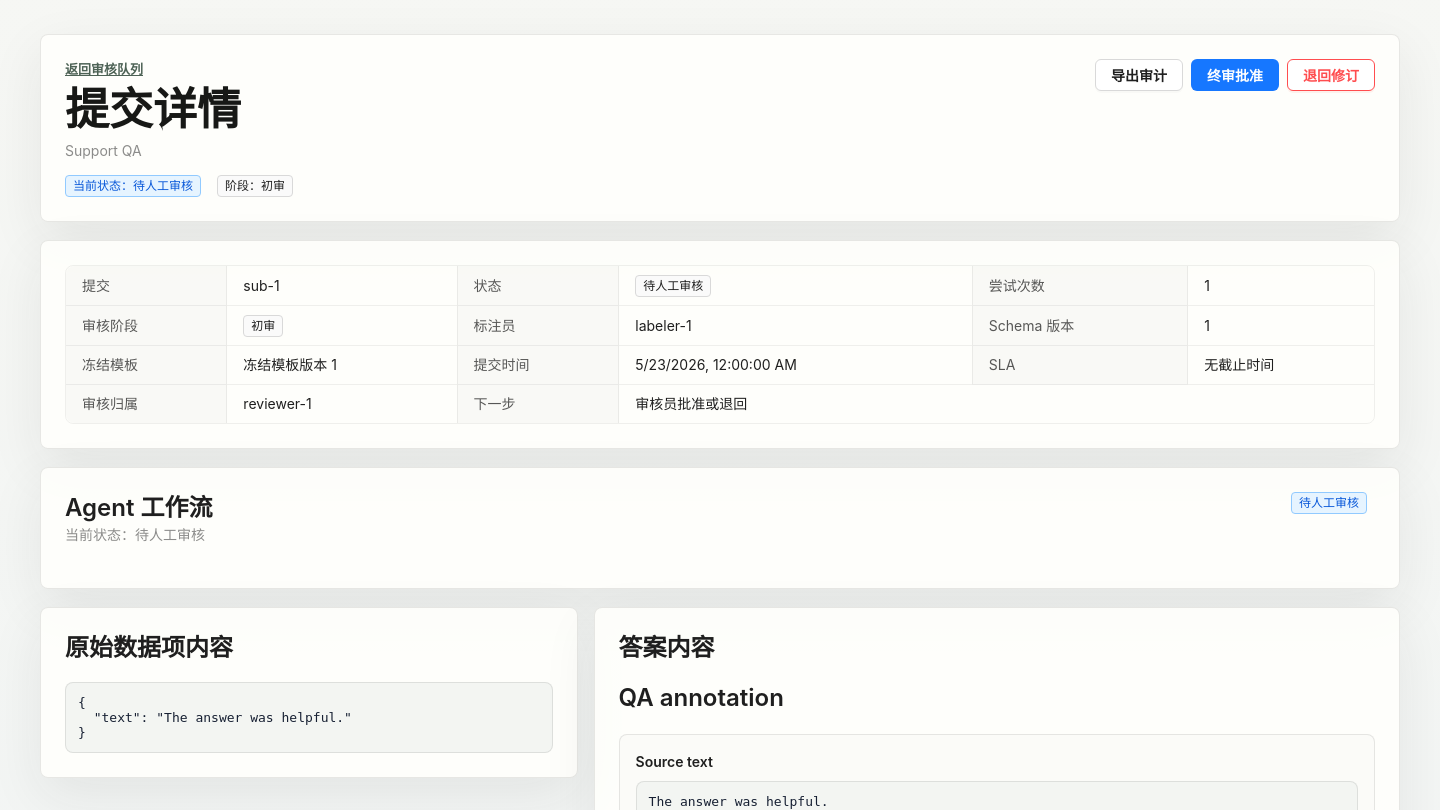
reviewer workspace › blocks return actions until a reason is provided
Click the button "退回修订" at point(1331, 75), box [1287,59,1375,91]
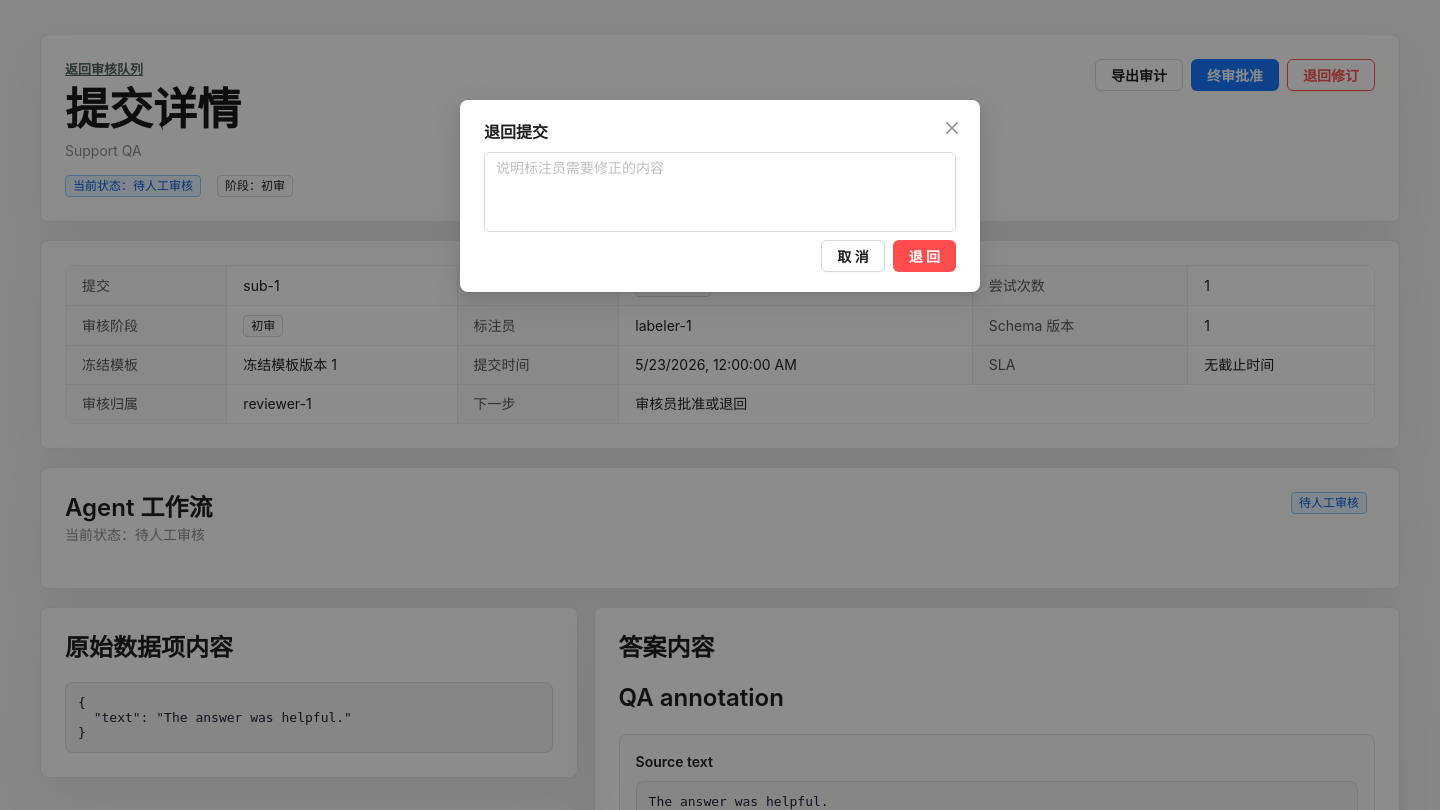
Click the button "退 回" at point(924, 256), box [893,240,956,272]
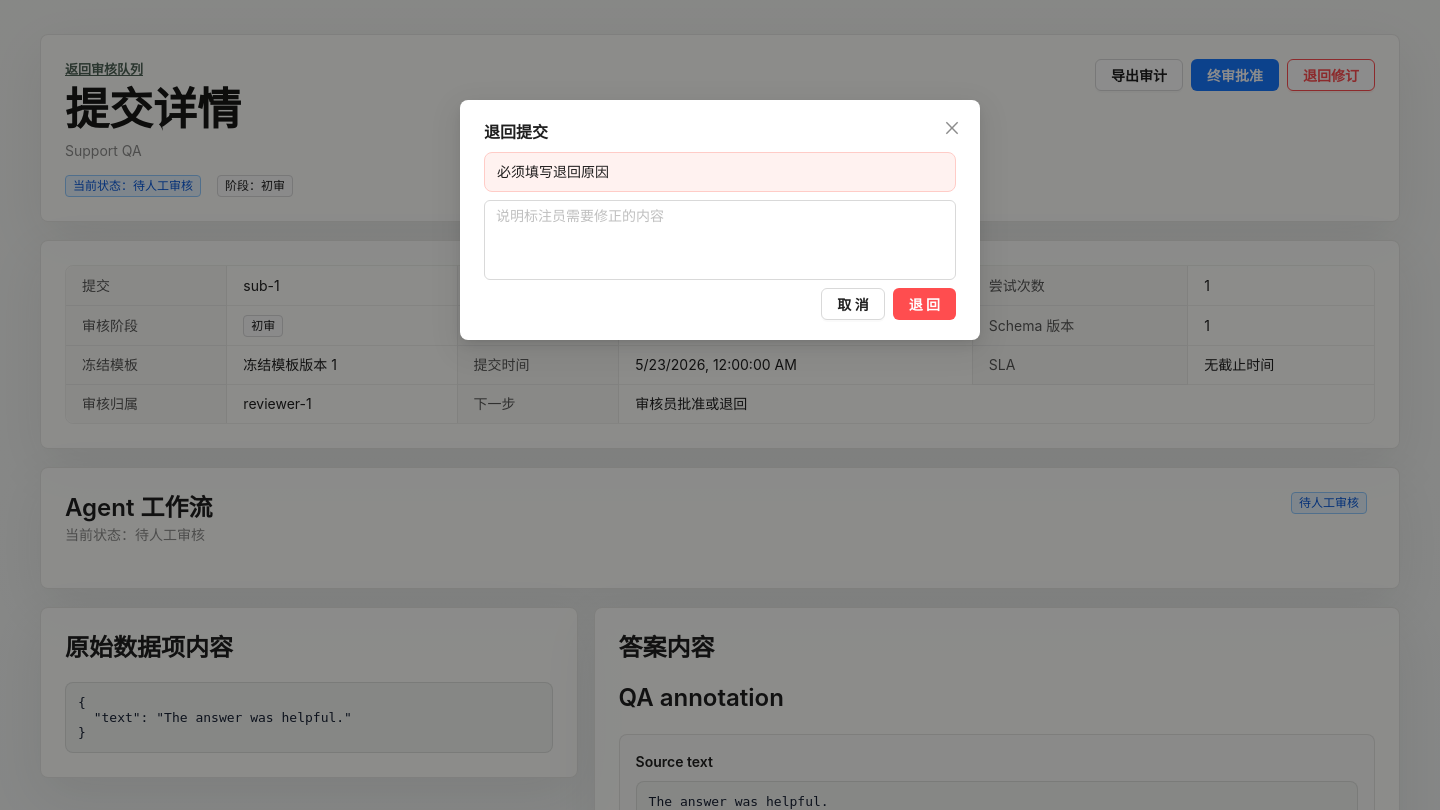
Now the text "必须填写退回原因" is shown, box [497,163,609,180]
